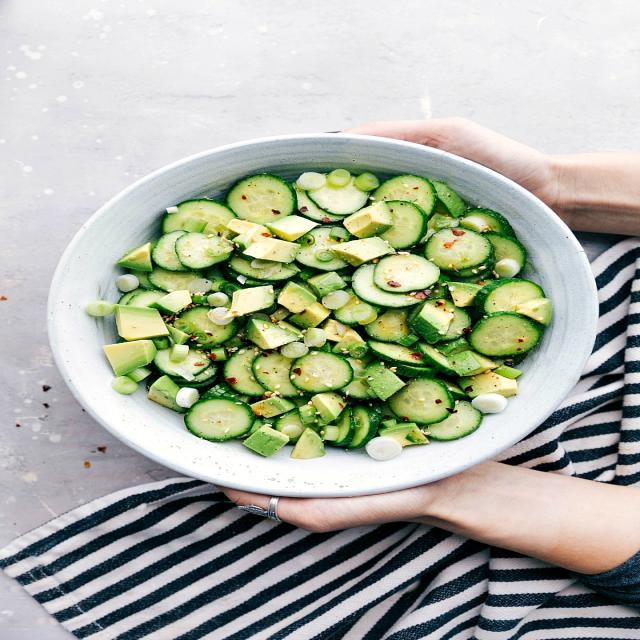Pickle: (225, 174, 296, 225), (469, 311, 542, 358), (184, 396, 255, 441), (388, 378, 454, 425), (426, 228, 493, 271), (289, 350, 354, 394), (373, 252, 441, 292), (379, 200, 428, 249), (176, 232, 234, 270), (308, 179, 369, 215), (103, 339, 158, 376), (114, 305, 169, 341), (484, 231, 527, 268), (244, 235, 300, 263), (347, 405, 381, 449), (227, 285, 274, 316), (156, 290, 191, 314), (495, 259, 521, 278), (208, 308, 234, 326), (208, 308, 234, 324), (169, 344, 189, 361)
